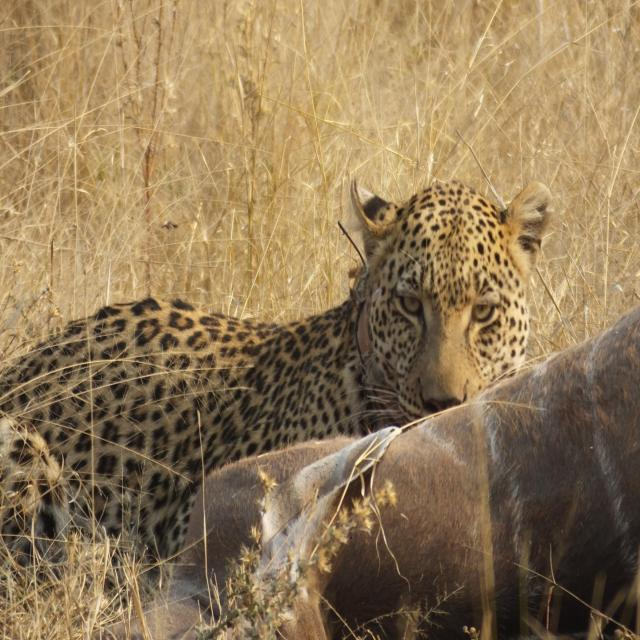Leopard: (0, 180, 557, 586)
